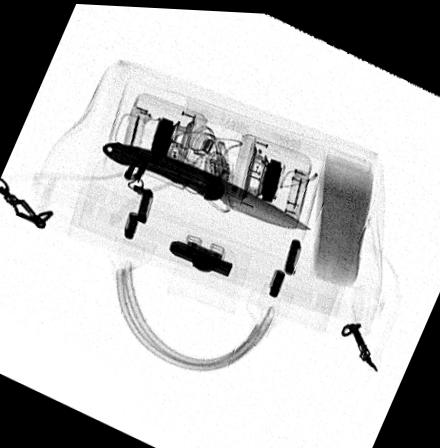Knife: (100, 140, 313, 228)
